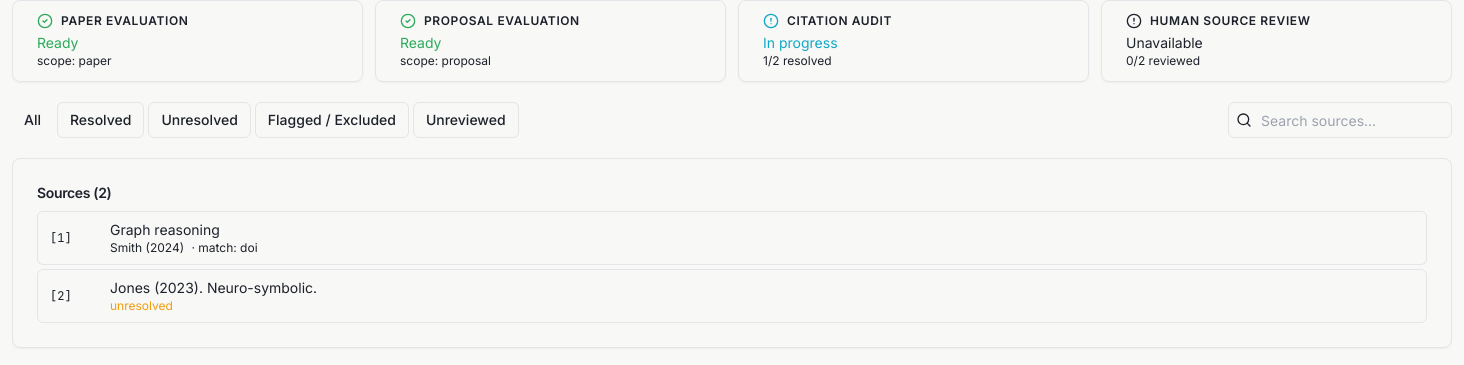
Test: TrustSourcesWorkspace › case 3b: search filters by title
The width and height of the screenshot is (1464, 365).
In the field with placeholder "Search sources…": (1340, 120) [1228, 102, 1452, 138], type "graph"
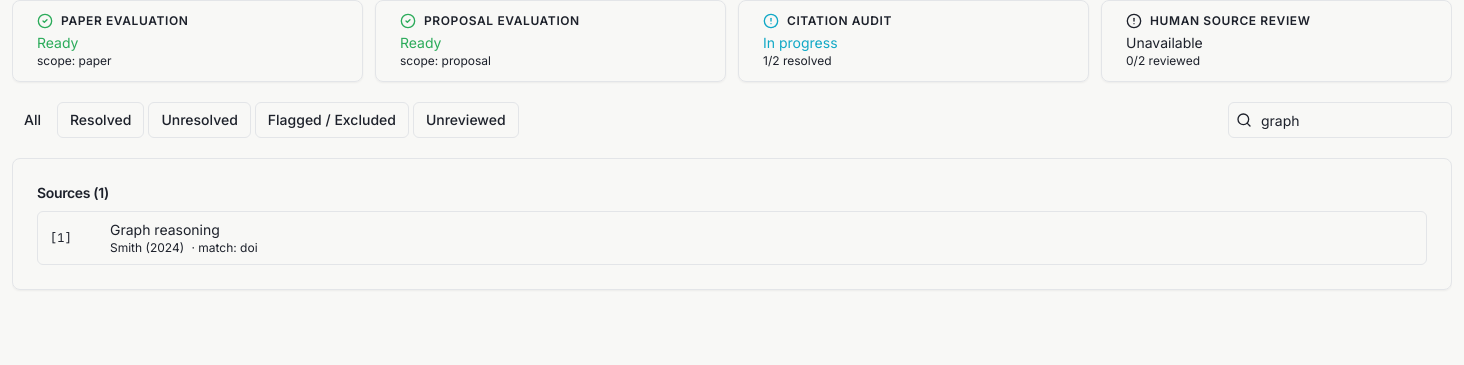
expect the text "Graph reasoning" is shown: met, box [110, 221, 220, 238]
expect the button "Neuro-symbolic" is gone: met
